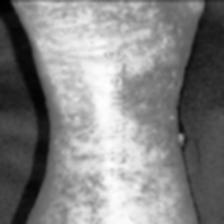Non-Cancerous Skin Condition: (125, 56, 182, 224), (39, 54, 91, 224), (7, 0, 175, 42)
